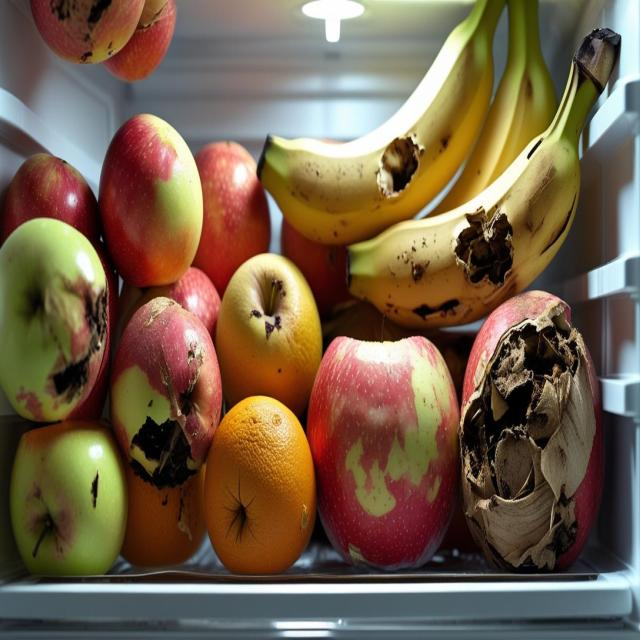apple: (307, 337, 459, 568), (0, 218, 117, 422), (110, 297, 222, 490), (10, 422, 127, 575), (99, 115, 203, 285), (215, 255, 322, 415), (0, 154, 115, 285), (193, 142, 270, 296)
banana: (257, 0, 620, 326)
orange: (204, 397, 316, 574)
